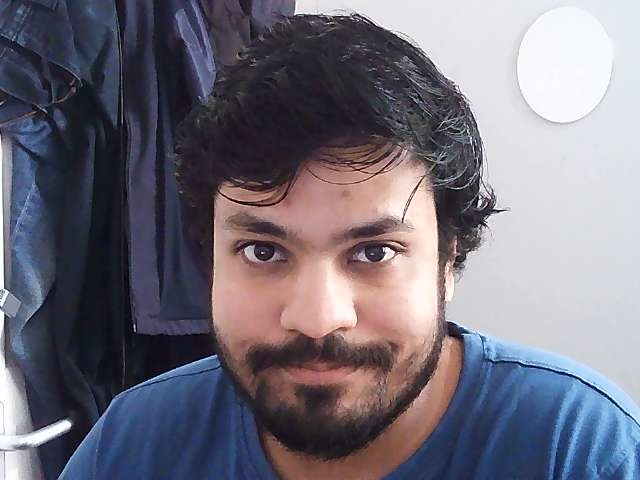Face: (183, 8, 464, 427)
